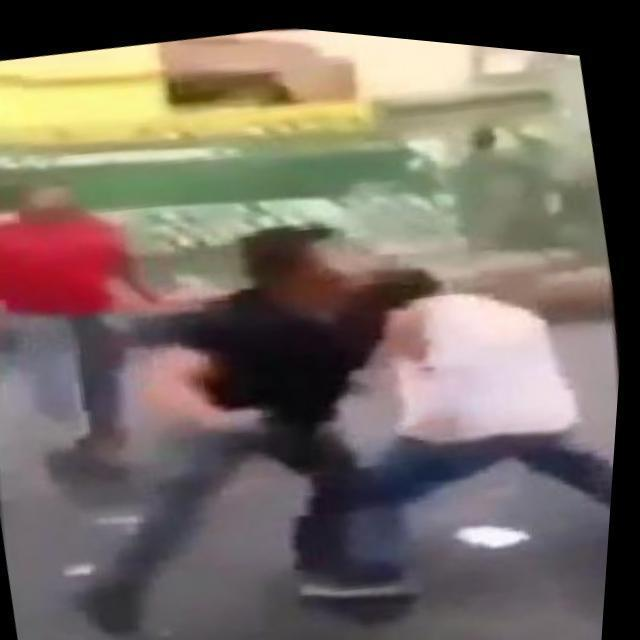fight: (20, 113, 634, 640)
